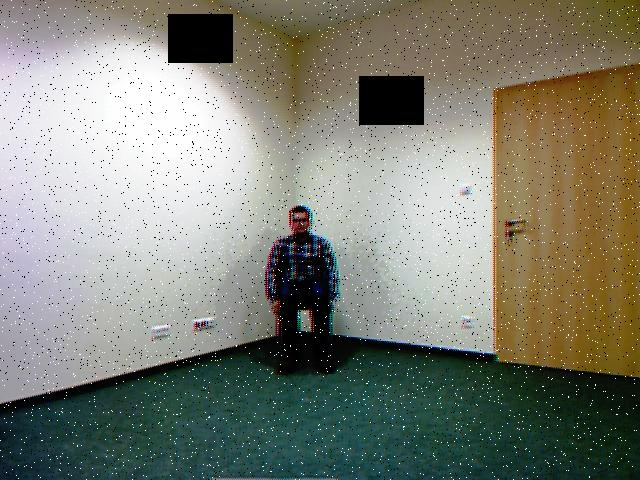sitting: (256, 196, 349, 389)
